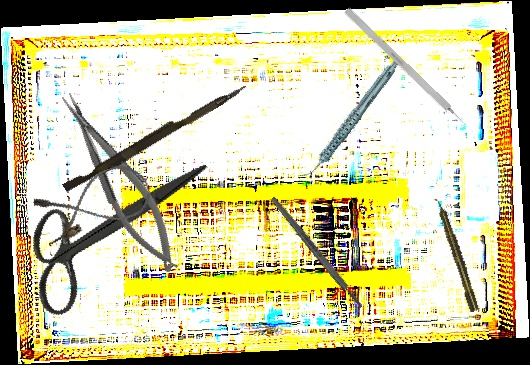Cannula: (31, 158, 157, 247)
Handpiece: (281, 57, 421, 181), (432, 196, 481, 313)
Hook Surgical: (343, 7, 476, 135)
Iris Scissors: (5, 113, 210, 348)
Needle Holder: (52, 81, 190, 283)
Pusher: (62, 77, 248, 197)
Scalpel Handle: (269, 195, 365, 310)
